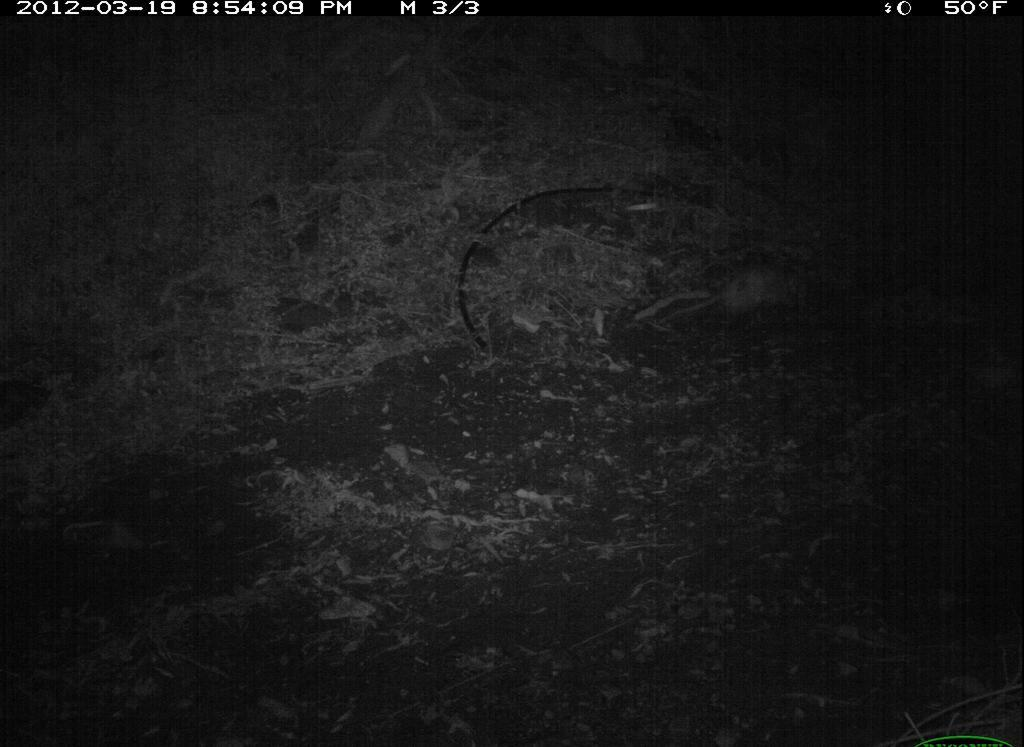opossum: (671, 259, 821, 340)
